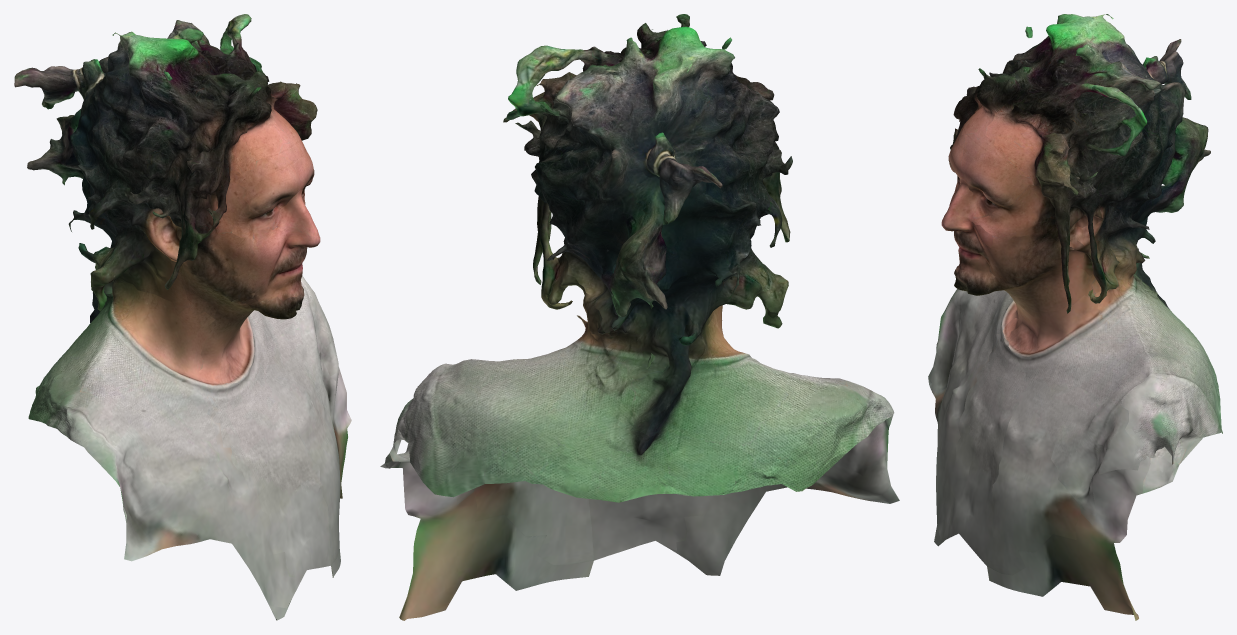
The model's file is CursedJohnny.glb.
The picture shows the model from 3 angles, left to right: view 1: azimuth 30°, elevation 25°; view 2: azimuth 150°, elevation 25°; view 3: azimuth 270°, elevation 25°; orthographic projection. The views are drawn at different scales.
Visible parts, largest first — view 1: JohnnyHead; view 2: JohnnyHead; view 3: JohnnyHead.
Part boxes in pixels (x1,y1,x2,y2): JohnnyHead: (14, 14, 351, 620); JohnnyHead: (380, 14, 899, 620); JohnnyHead: (928, 14, 1222, 620).
Bounding box in the file's own units: 1.43 × 2.08 × 1.11.
Materials: 1 (1 with a texture image).
